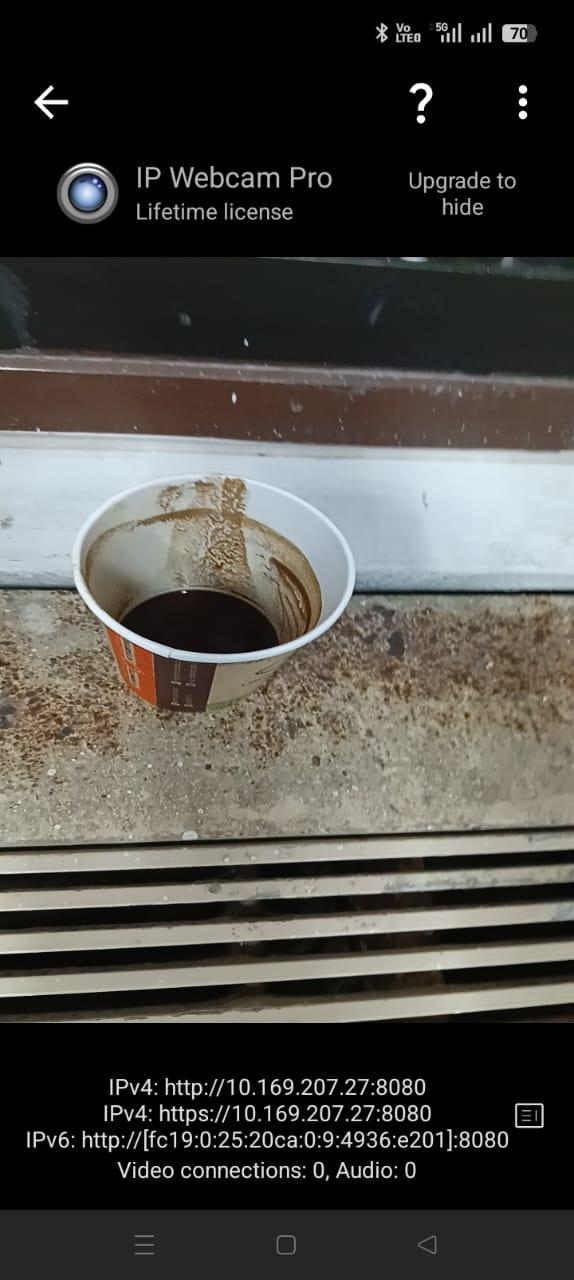cup: (72, 474, 354, 713), (82, 485, 345, 643), (124, 590, 278, 653)
